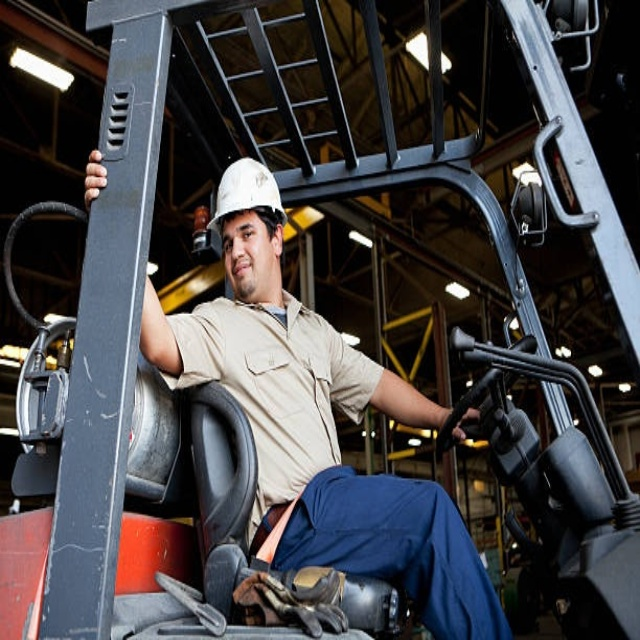Sin_gafas: (224, 220, 256, 253)
Sin_guantes: (84, 143, 111, 205)
Sin_mascara: (228, 256, 255, 284)
